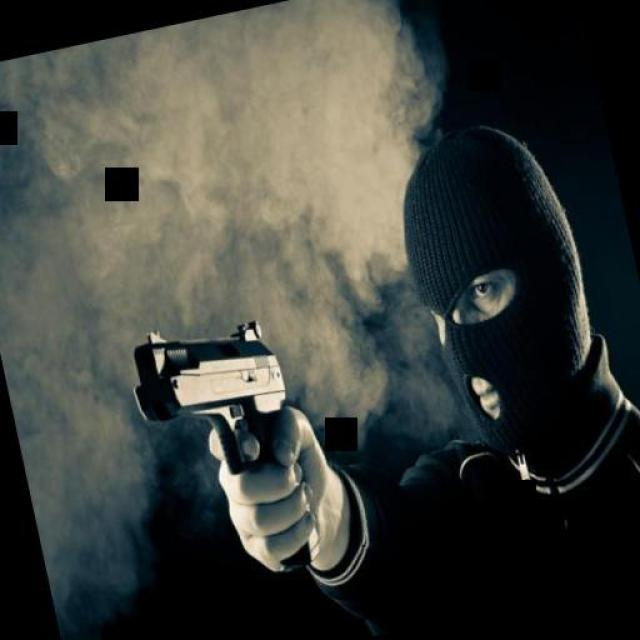gun: (119, 296, 301, 492)
